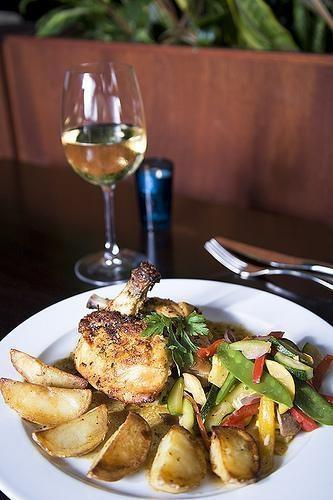glass-wine: (59, 61, 150, 286)
